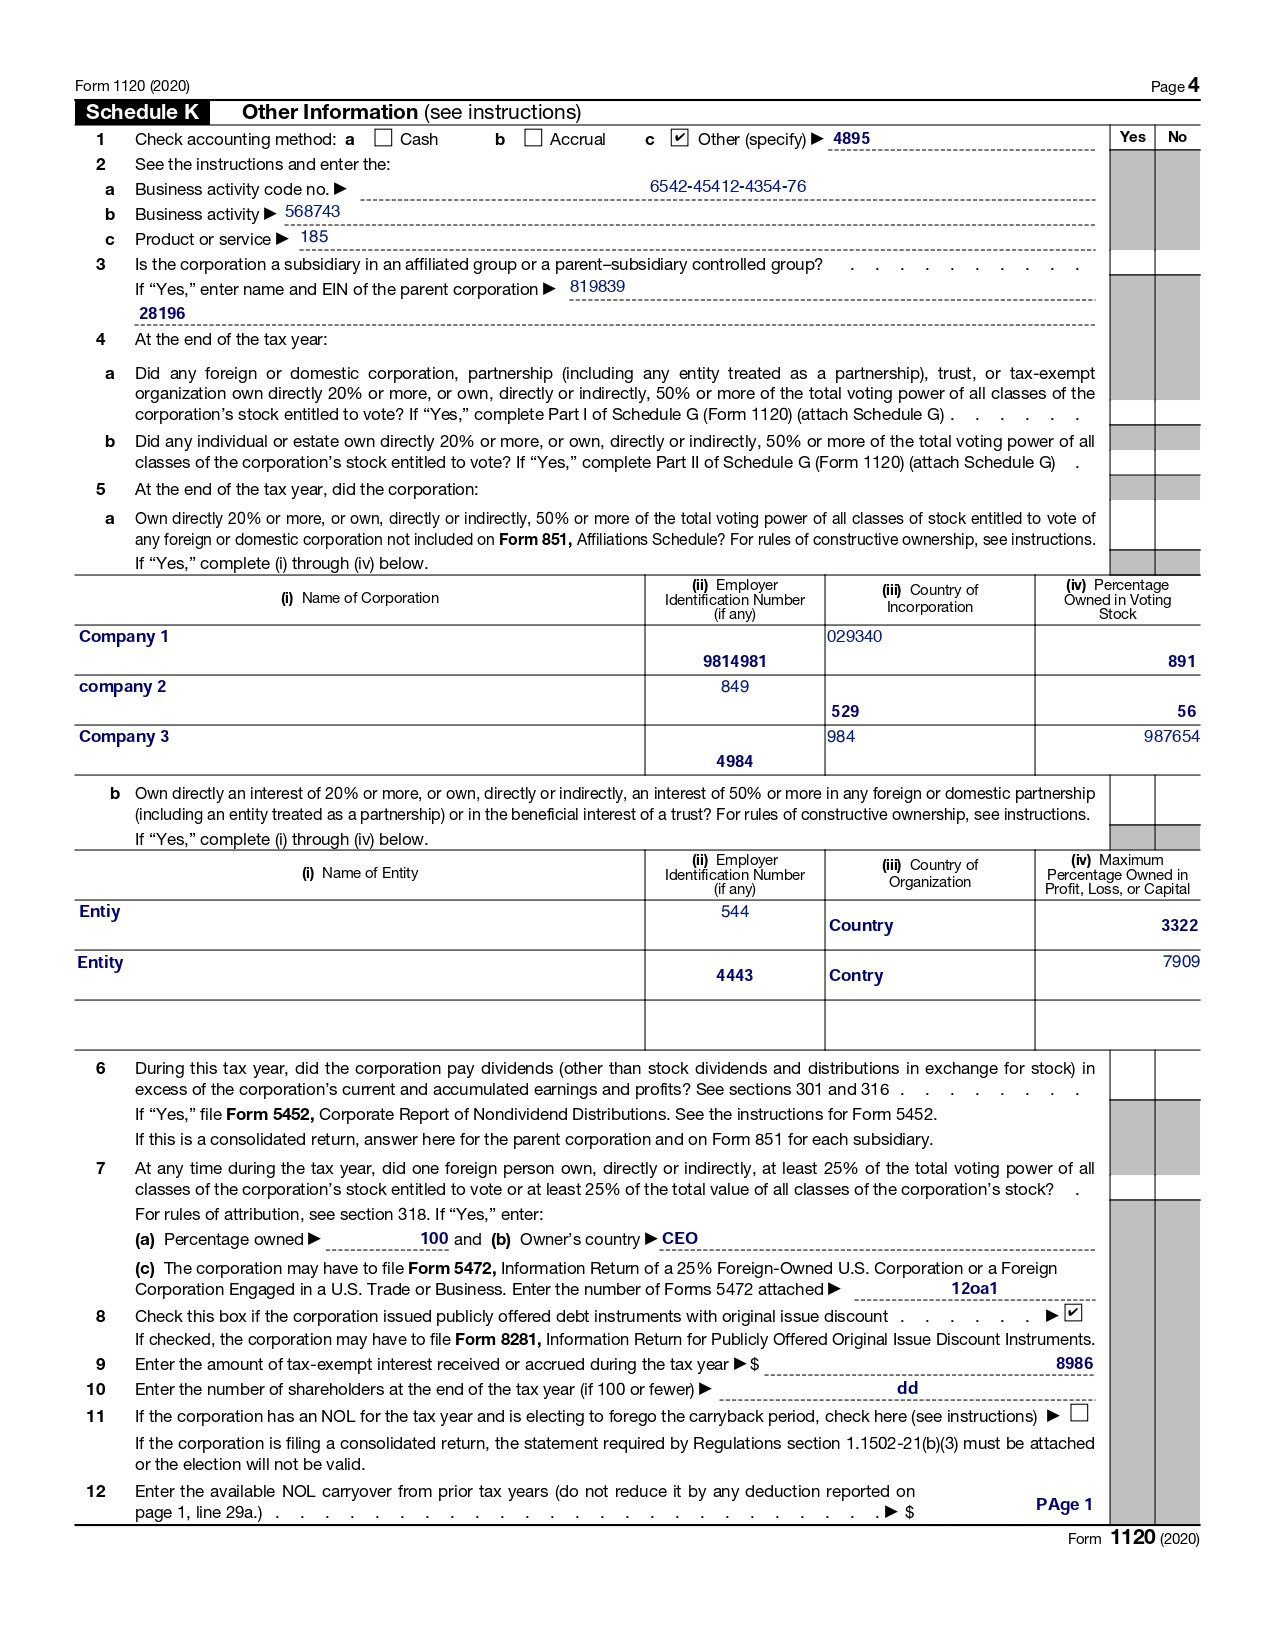table: (55, 96, 1221, 579), (58, 1047, 1213, 1529), (44, 575, 1225, 778), (46, 850, 1229, 1041), (56, 774, 1224, 849)
